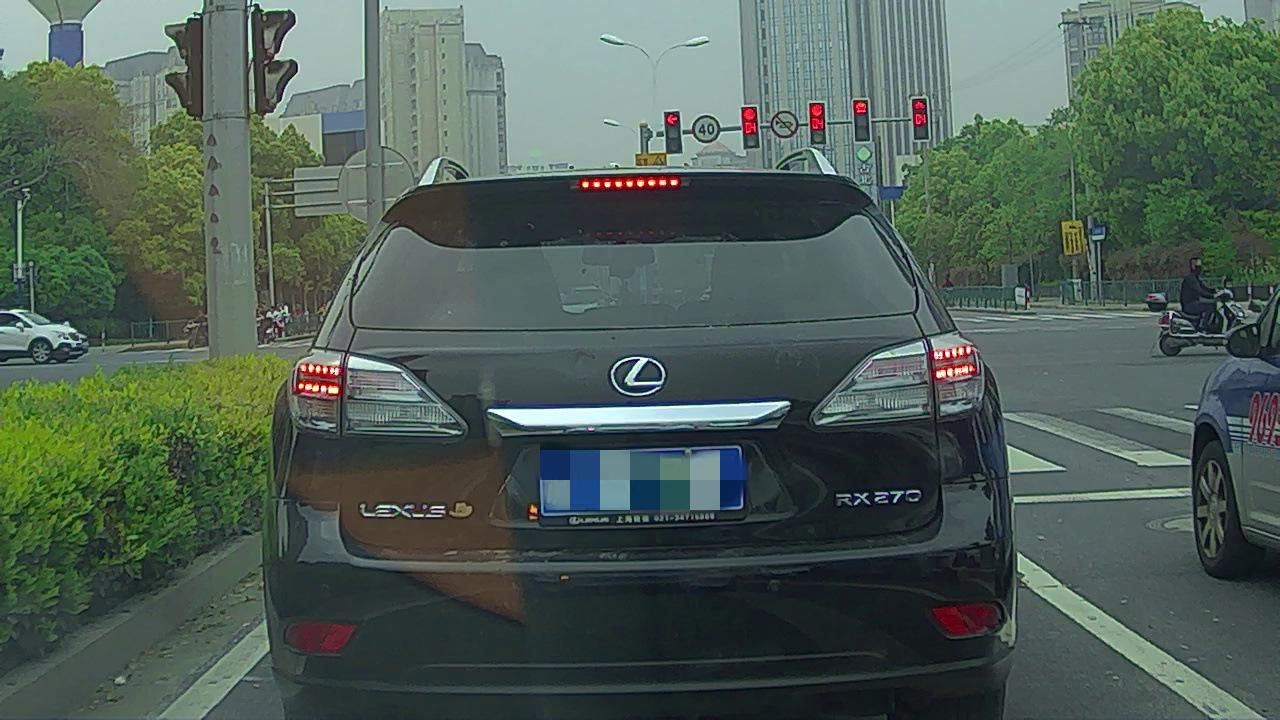traffic_light: (664, 112, 683, 155), (808, 103, 827, 143), (853, 98, 870, 141), (912, 97, 929, 140), (742, 106, 759, 148)
